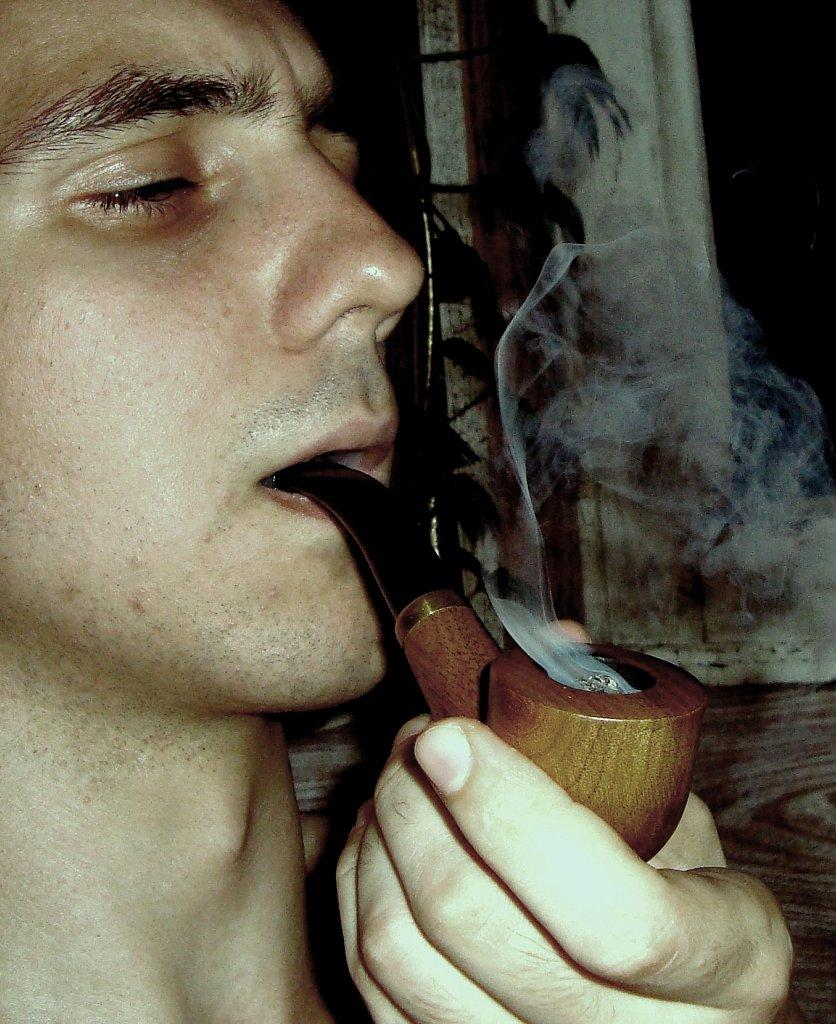trubka: (281, 464, 705, 859)
